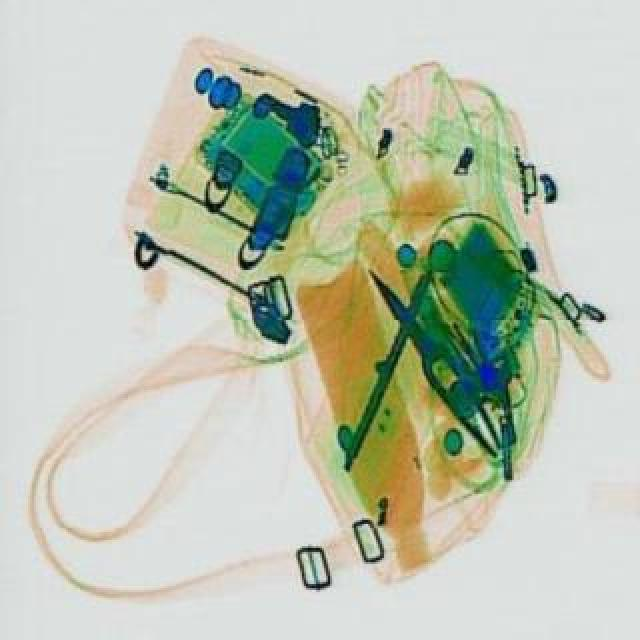wrench: (350, 256, 518, 462)
